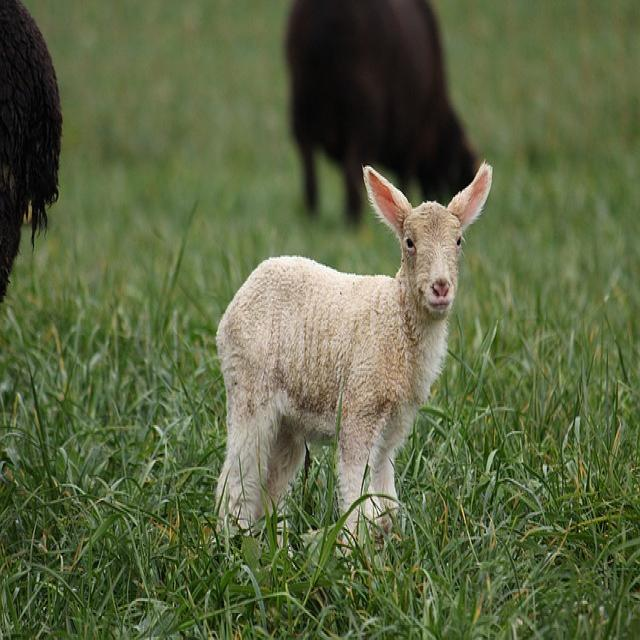goat: (216, 163, 492, 534), (286, 0, 478, 221)
